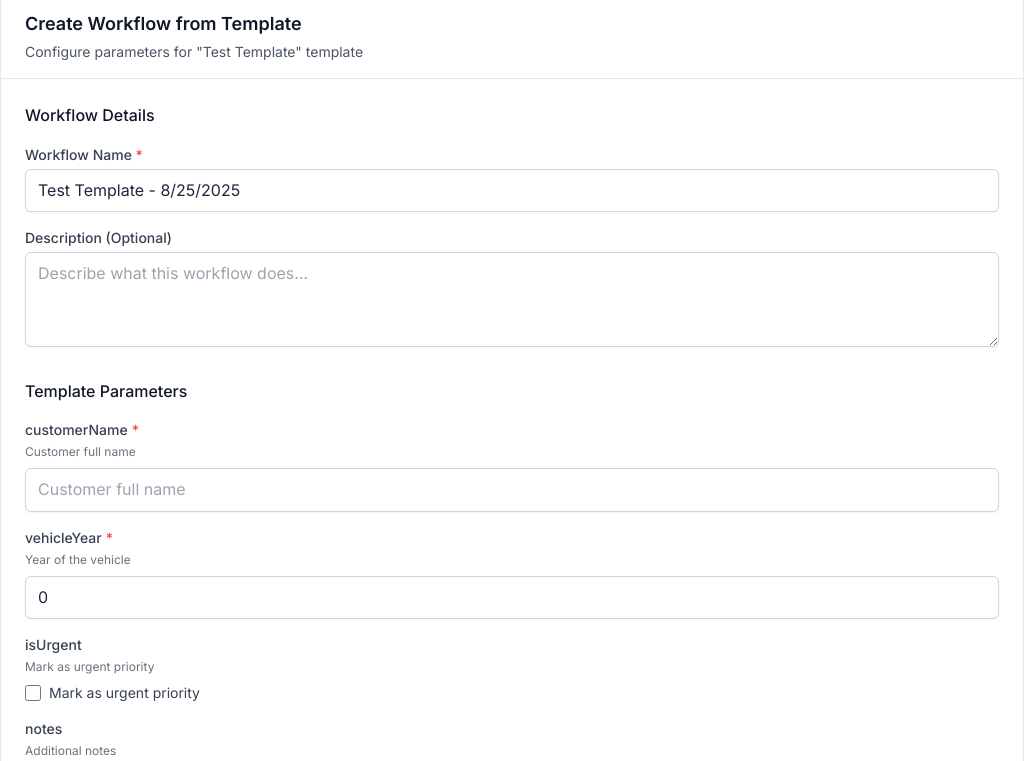
Test case: TemplateInstantiationForm › Form Submission › handles submission errors
Note: Clear the default workflow name and set our own
Replace the text in the field labelled "Workflow Name *" with "My Test Workflow". click: (512, 190)
box: [25, 169, 999, 212]
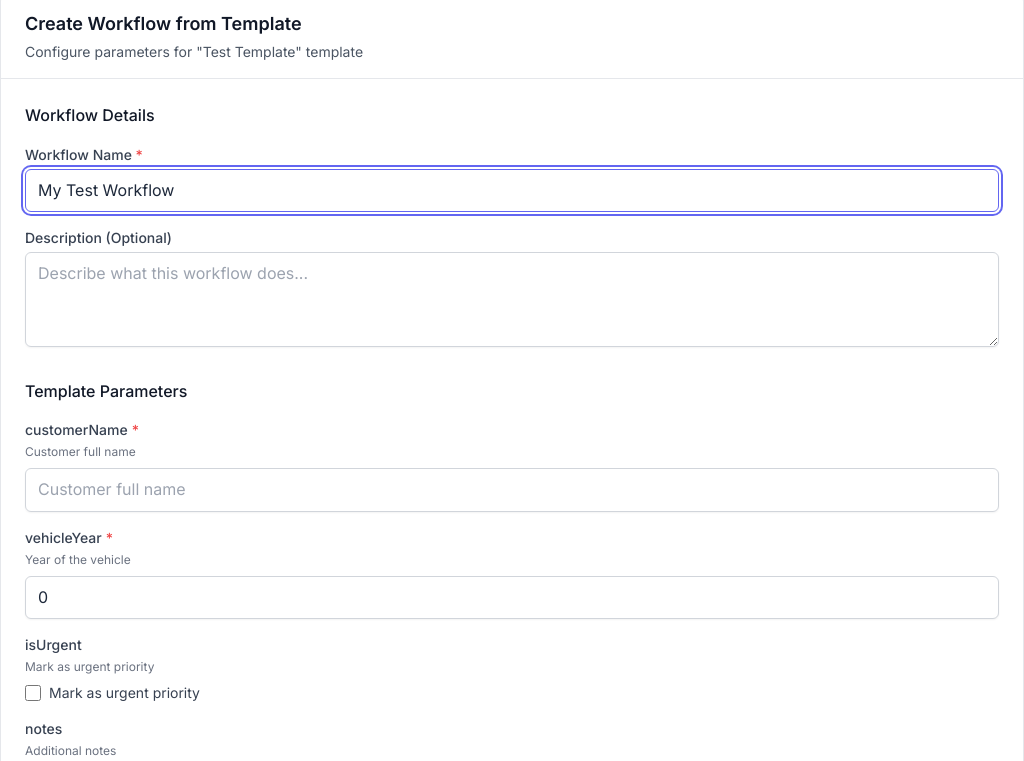
Type "John Doe" into the field labelled "customerName*". click: (512, 490)
box: [25, 468, 999, 512]
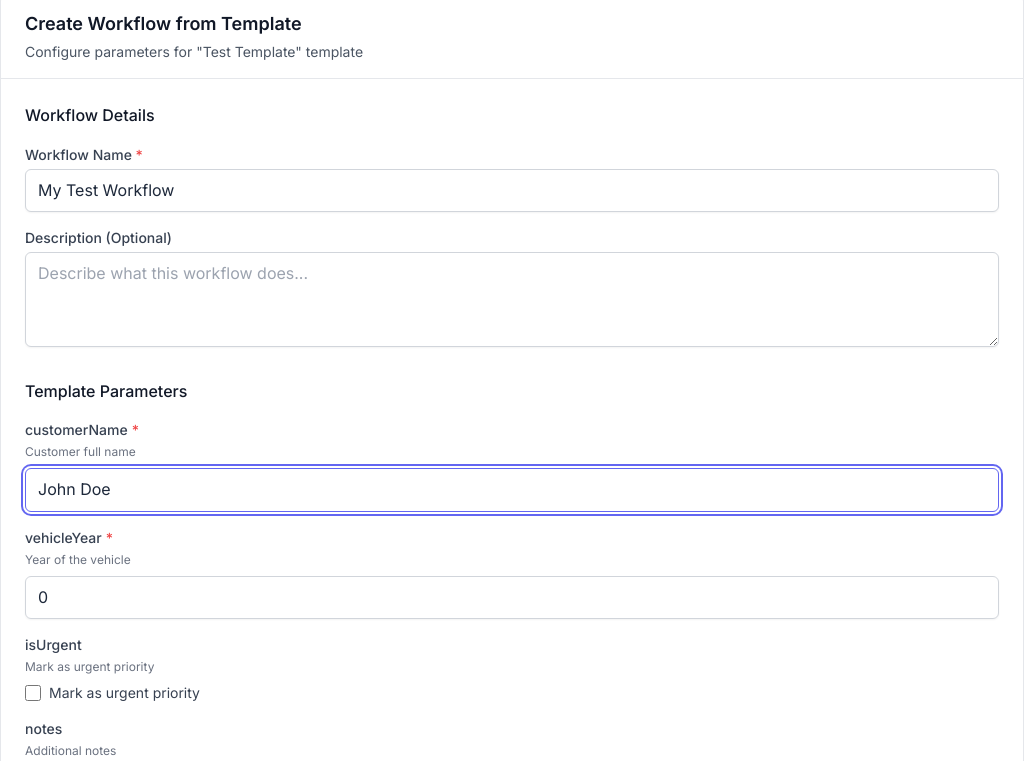
Type "2020" into the number field labelled "vehicleYear*". click: (512, 598)
box: [25, 576, 999, 619]
(page scrolled)
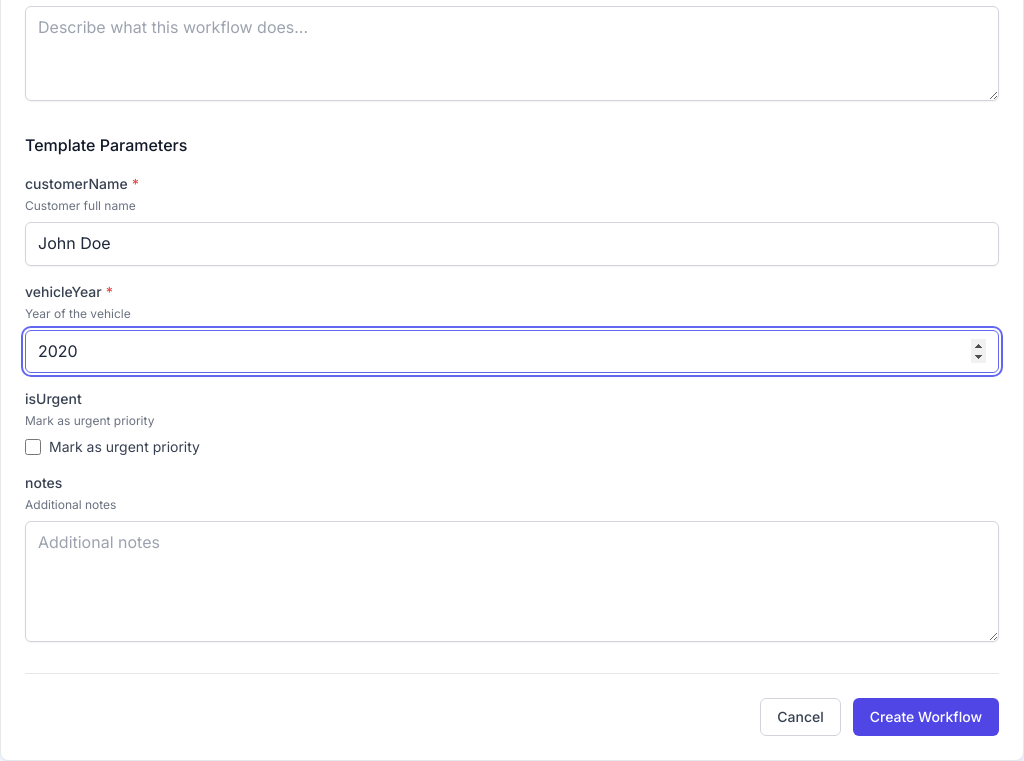
Note: Submit form
Click the button "Create Workflow". click: (926, 717)
box: [853, 698, 999, 736]
(page scrolled)
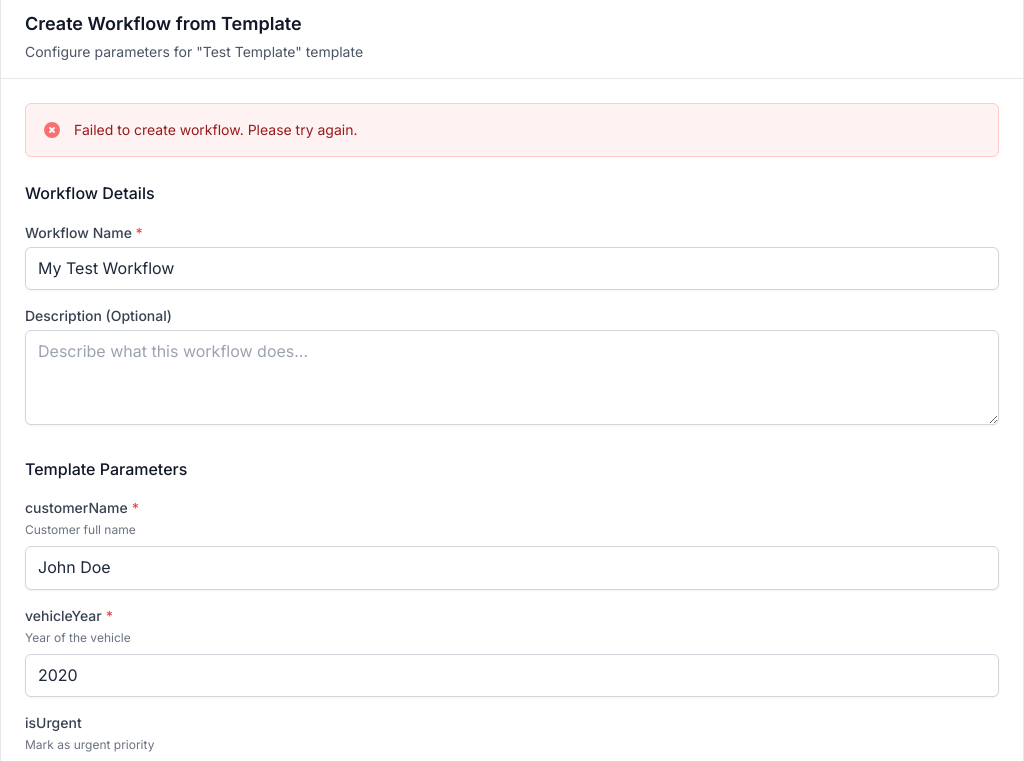
Expected: the text "Failed to create workflow. Please try again." is shown, [74, 120, 358, 140]
